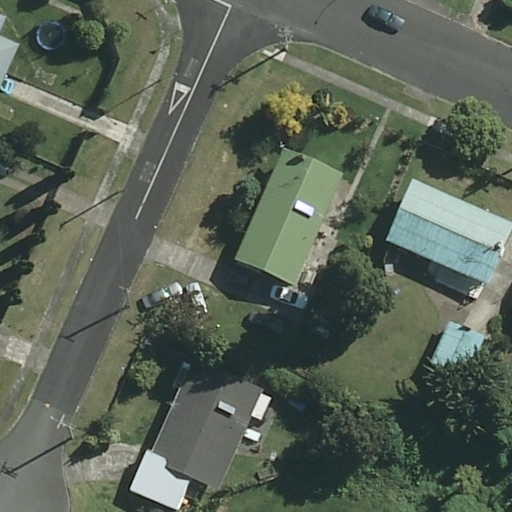DT: (274, 23, 295, 56), (118, 287, 138, 313), (58, 418, 78, 443), (159, 67, 182, 83), (119, 183, 130, 198)
